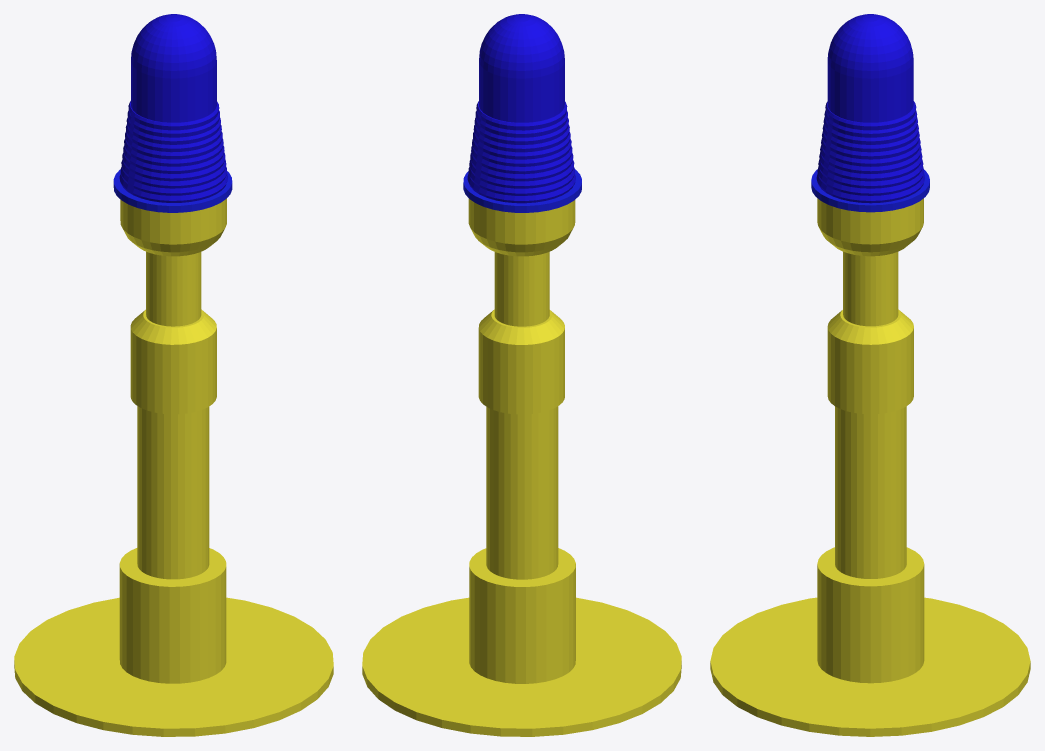
File: TaxiwayEdge.fbx
3 renders of one model, left to right at view 1: azimuth 30°, elevation 25°; view 2: azimuth 150°, elevation 25°; view 3: azimuth 270°, elevation 25°, orthographic.
Visible parts, largest first — view 1: support6, light.001, lightbase1; view 2: support6, light.001, lightbase1; view 3: support6, light.001, lightbase1.
Part boxes in pixels (x1,y1,x2,y2): support6: (14, 198, 333, 736); light.001: (119, 14, 227, 202); lightbase1: (113, 169, 232, 212); support6: (362, 198, 681, 736); light.001: (467, 14, 575, 203); lightbase1: (463, 169, 581, 212); support6: (710, 198, 1030, 736); light.001: (816, 14, 924, 203); lightbase1: (811, 169, 929, 212).
Size of the model in its own units: 315 by 708 by 315.
